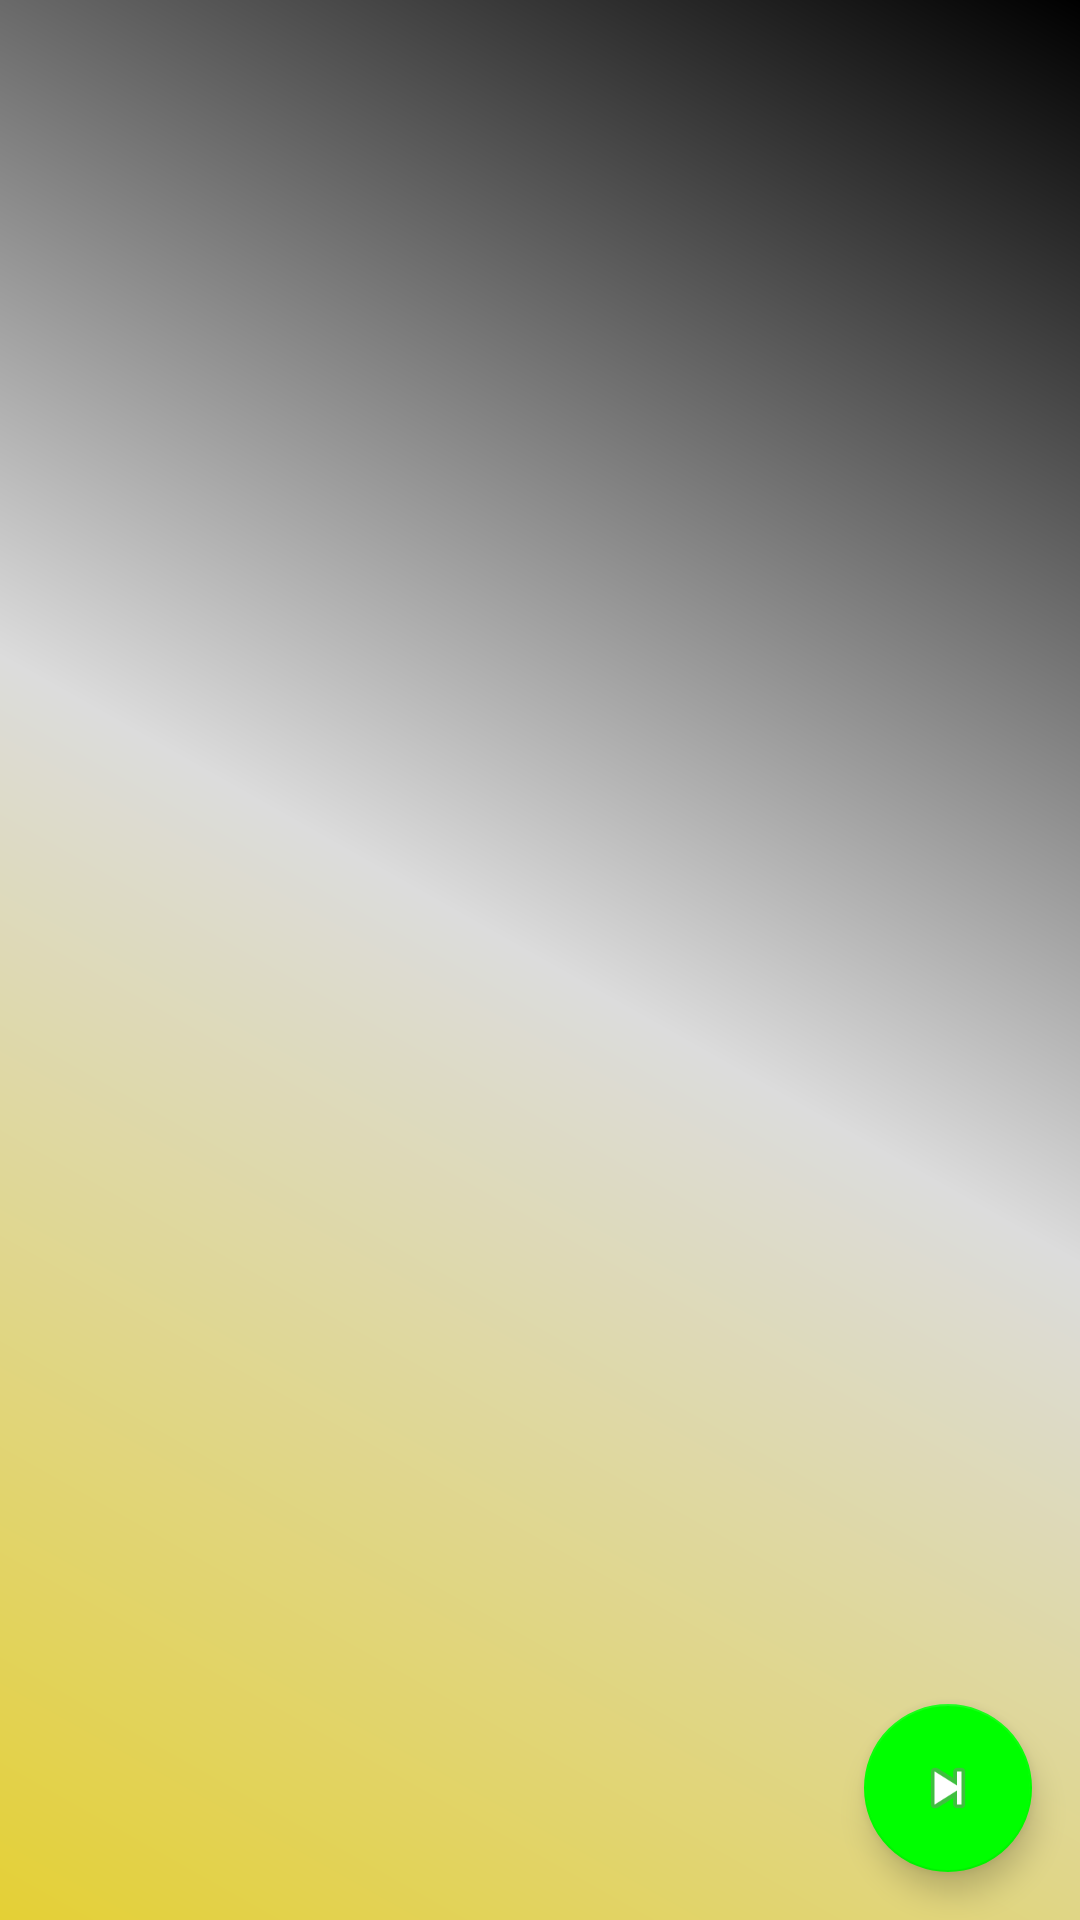

Named icons in this screenshot (1080x1920) and their centers, (x=x, y=y):
next: (x=948, y=1788)
